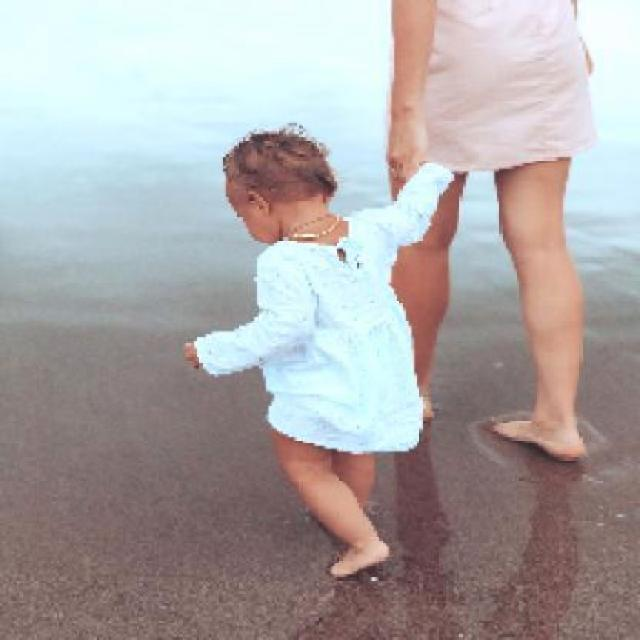child: (184, 130, 459, 576)
